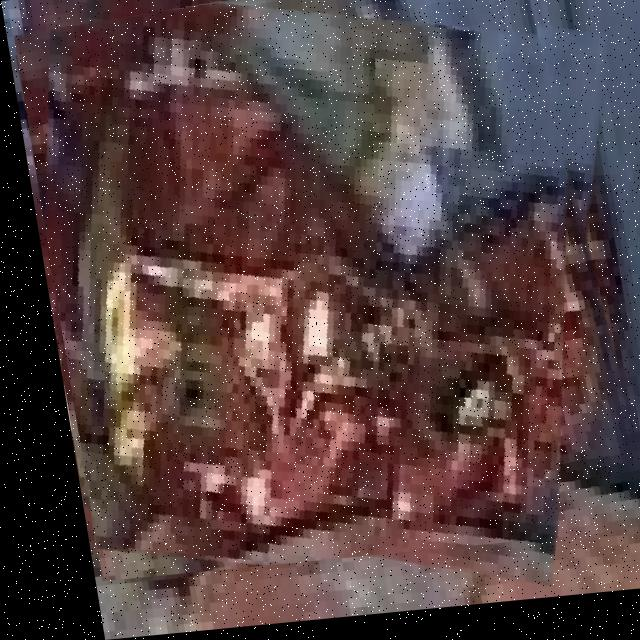can: (43, 9, 566, 554)
